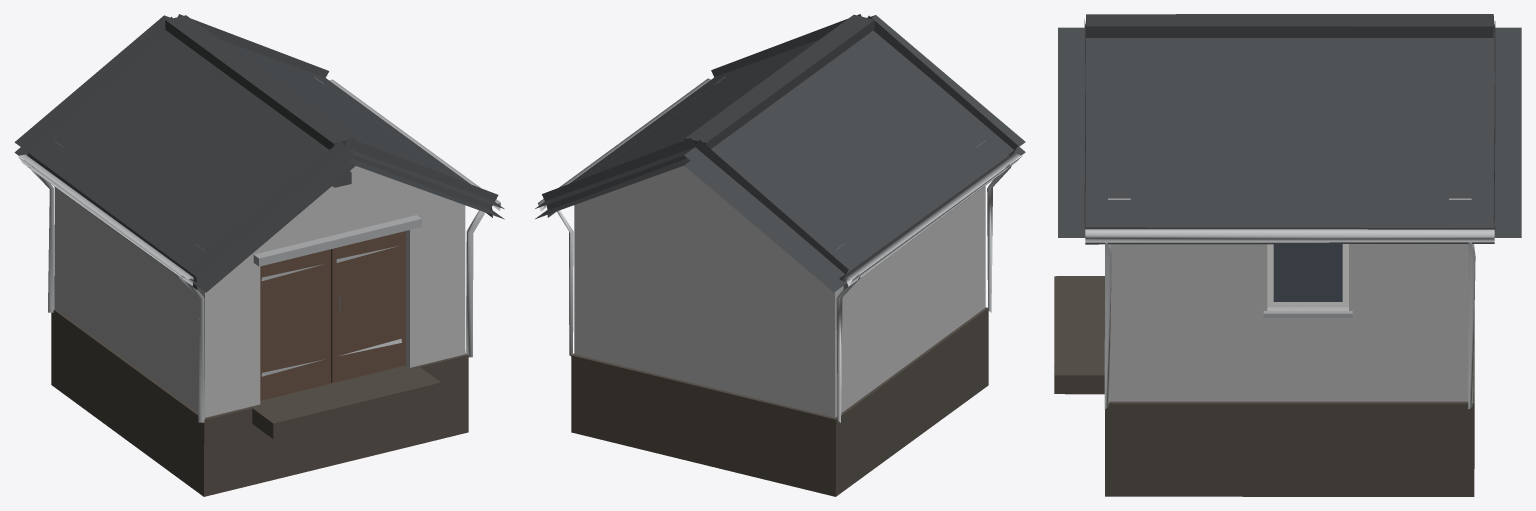
The model's file is outbuilding-lod1.glb.
3 views of the same model, side by side, from view 1: azimuth 30°, elevation 25°; view 2: azimuth 150°, elevation 25°; view 3: azimuth 270°, elevation 25° (orthographic). The views are drawn at different scales.
Visible parts, largest first — view 1: outbuilding-plaster0.001; view 2: outbuilding-plaster0.001; view 3: outbuilding-plaster0.001.
Part boxes in pixels (x1,y1,x2,y2): outbuilding-plaster0.001: [14, 14, 504, 496]; outbuilding-plaster0.001: [535, 14, 1025, 496]; outbuilding-plaster0.001: [1054, 14, 1521, 496].
Bounding box in the file's own units: 4.84 × 4.87 × 5.14.
